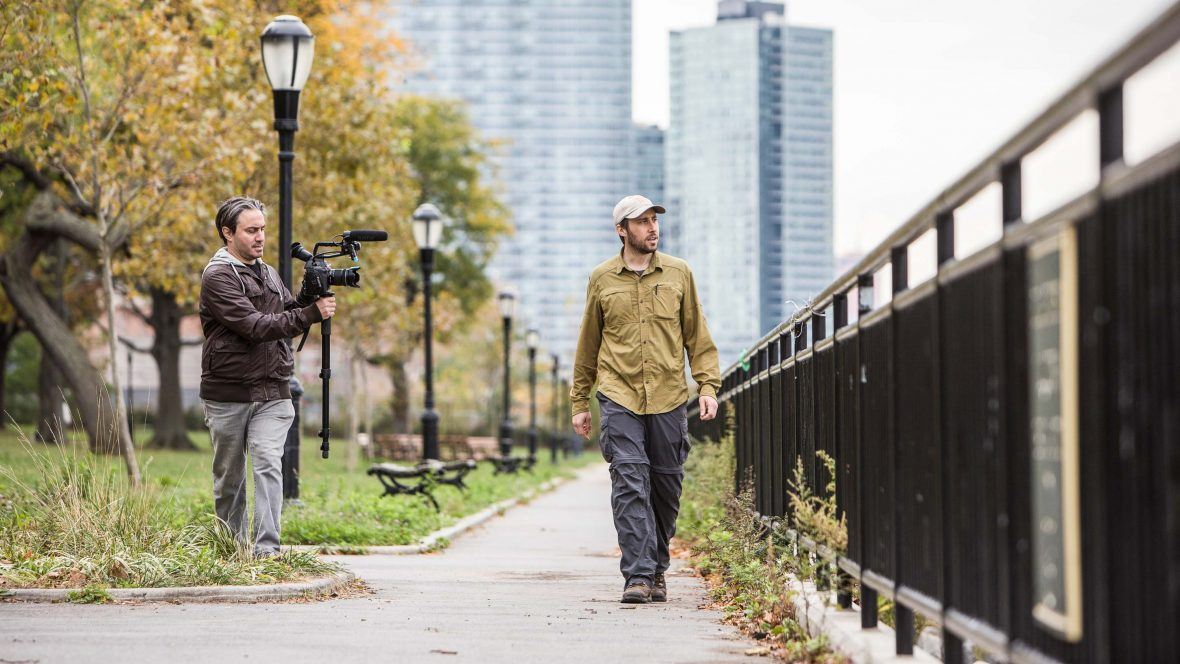person: (173, 188, 399, 565), (548, 186, 744, 614)
